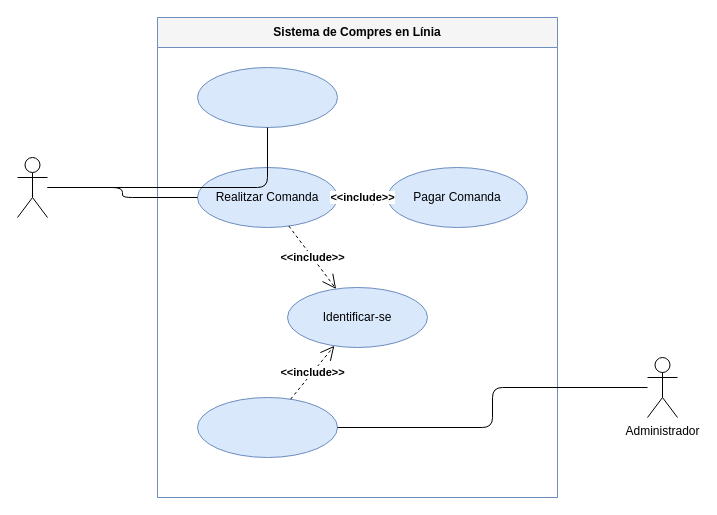
Image size: 717x515. Some labels were removed from this diagram. Here are the shapes that lost their labels. From the top down, the centre of each, then its label:
the point at 267,97: Buscar Productes
the point at 32,187: Client
the point at 267,427: Gestionar Inventari
